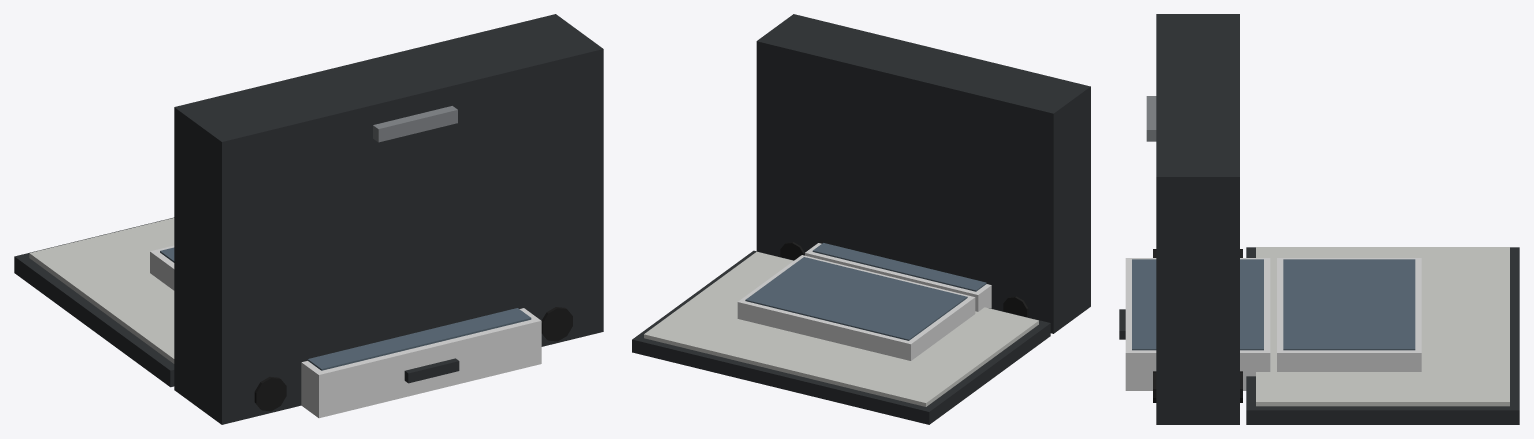
The model's file is gear.glb.
The picture shows the model from 3 angles, left to right: view 1: azimuth 30°, elevation 25°; view 2: azimuth 150°, elevation 25°; view 3: azimuth 270°, elevation 25°; orthographic projection. The views are drawn at different scales.
Parts seen in each view (by area): view 1: GEAR_bike_box_LOD0, GEAR_suitcase_LOD0; view 2: GEAR_bike_box_LOD0, GEAR_suitcase_LOD0; view 3: GEAR_bike_box_LOD0, GEAR_suitcase_LOD0.
Boxes of the visible parts, bbox=[...] form: GEAR_bike_box_LOD0: bbox=[14, 14, 603, 424]; GEAR_suitcase_LOD0: bbox=[150, 245, 541, 418]; GEAR_bike_box_LOD0: bbox=[632, 14, 1090, 424]; GEAR_suitcase_LOD0: bbox=[737, 243, 991, 360]; GEAR_bike_box_LOD0: bbox=[1146, 14, 1519, 424]; GEAR_suitcase_LOD0: bbox=[1119, 258, 1421, 390].
Size of what is drawn, in the model's own units: 1.2 by 0.89 by 1.25.
